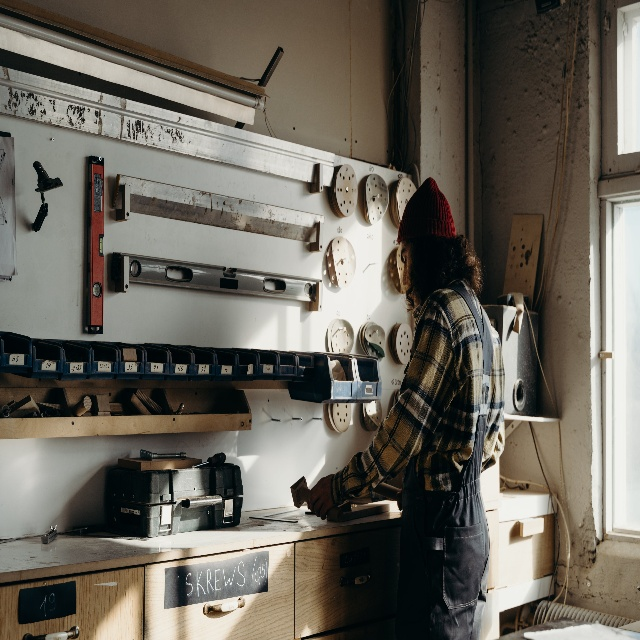Sin_guantes: (309, 474, 337, 519)
